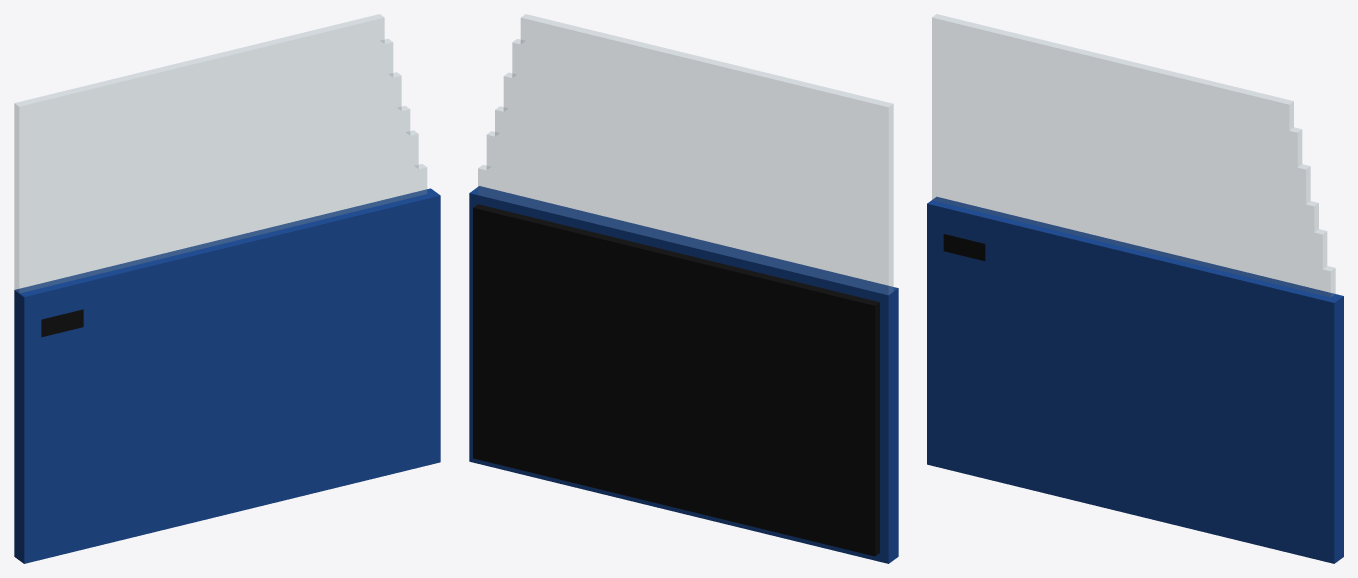
File: flatbed_truck_door.glb
3 views of the same model, side by side, from view 1: azimuth 30°, elevation 25°; view 2: azimuth 150°, elevation 25°; view 3: azimuth 330°, elevation 25° (orthographic). The views are drawn at different scales.
Parts seen in each view (by area): view 1: body:compound; view 2: body:compound; view 3: body:compound.
Boxes of the visible parts, x1,y1,x2,y2 form: body:compound: [14, 14, 440, 563]; body:compound: [469, 14, 898, 563]; body:compound: [927, 14, 1343, 563].
Bounding box in the file's own units: 1.53 × 1.59 × 0.0938.
